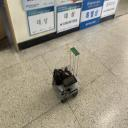cart: (52, 64, 81, 104)
